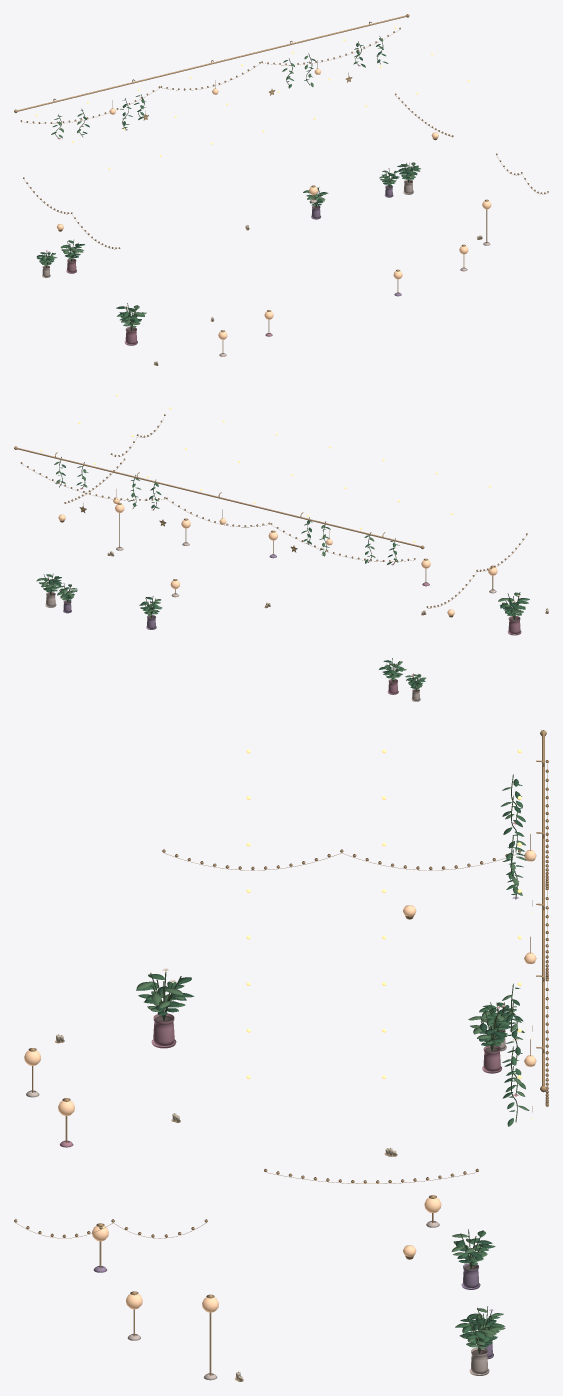
The model's file is room-dressing-before-plant-replacement.glb.
3 views of the same model, one above another, from view 1: azimuth 30°, elevation 25°; view 2: azimuth 150°, elevation 25°; view 3: azimuth 270°, elevation 25° (orthographic). The views are drawn at different scales.
Visible parts, largest first — view 1: Batched_Fixture_Brushed_Champagne_Brass, Batched_Leaf_Sage_Soft, Batched_Leaf_Sage_Mid, Batched_Leaf_Sage_Dark, Batched_Fixture_Frosted_Ivory_Glass, Batched_Vine_Stem_Sage; view 2: Batched_Fixture_Brushed_Champagne_Brass, Batched_Leaf_Sage_Mid, Batched_Leaf_Sage_Soft, Batched_Leaf_Sage_Dark, Batched_Fixture_Frosted_Ivory_Glass, Batched_Vine_Stem_Sage, Batched_Pot_Dusty_Rose_Ceramic; view 3: Batched_Fixture_Brushed_Champagne_Brass, Batched_Leaf_Sage_Dark, Batched_Leaf_Sage_Soft, Batched_Leaf_Sage_Mid, Batched_Fixture_Frosted_Ivory_Glass, Batched_Vine_Stem_Sage, Batched_Pot_Dusty_Rose_Ceramic, Batched_Pot_Cream_Ceramic.
Boxes of the visible parts, left/top/right/bottom form: Batched_Fixture_Brushed_Champagne_Brass: left=14, top=14, right=548, bottom=365; Batched_Leaf_Sage_Soft: left=39, top=40, right=415, bottom=327; Batched_Leaf_Sage_Mid: left=37, top=38, right=420, bottom=326; Batched_Leaf_Sage_Dark: left=36, top=43, right=417, bottom=323; Batched_Fixture_Frosted_Ivory_Glass: left=57, top=68, right=491, bottom=339; Batched_Vine_Stem_Sage: left=41, top=36, right=478, bottom=330; Batched_Fixture_Brushed_Champagne_Brass: left=14, top=414, right=548, bottom=676; Batched_Leaf_Sage_Mid: left=39, top=466, right=529, bottom=688; Batched_Leaf_Sage_Soft: left=36, top=461, right=525, bottom=685; Batched_Leaf_Sage_Dark: left=41, top=464, right=525, bottom=687; Batched_Fixture_Frosted_Ivory_Glass: left=58, top=497, right=497, bottom=615; Batched_Vine_Stem_Sage: left=43, top=457, right=547, bottom=691; Batched_Pot_Dusty_Rose_Ceramic: left=387, top=582, right=521, bottom=694; Batched_Fixture_Brushed_Champagne_Brass: left=14, top=730, right=548, bottom=1381; Batched_Leaf_Sage_Dark: left=145, top=779, right=524, bottom=1346; Batched_Leaf_Sage_Soft: left=136, top=787, right=529, bottom=1348; Batched_Leaf_Sage_Mid: left=136, top=784, right=525, bottom=1346; Batched_Fixture_Frosted_Ivory_Glass: left=24, top=850, right=536, bottom=1312; Batched_Vine_Stem_Sage: left=58, top=774, right=517, bottom=1376; Batched_Pot_Dusty_Rose_Ceramic: left=59, top=1013, right=501, bottom=1147; Batched_Pot_Cream_Ceramic: left=26, top=1029, right=506, bottom=1380.
Size of the model in its own units: 20.03 by 7.99 by 12.63.
